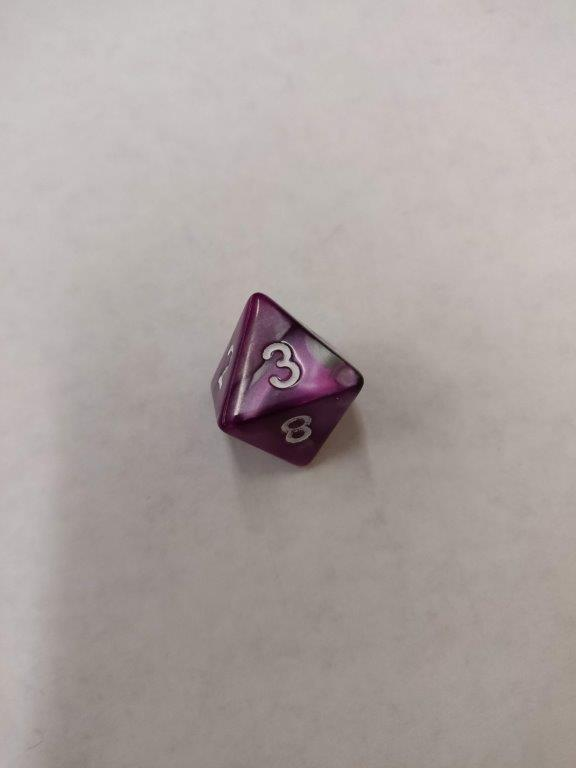d8-3: (212, 287, 367, 475)
